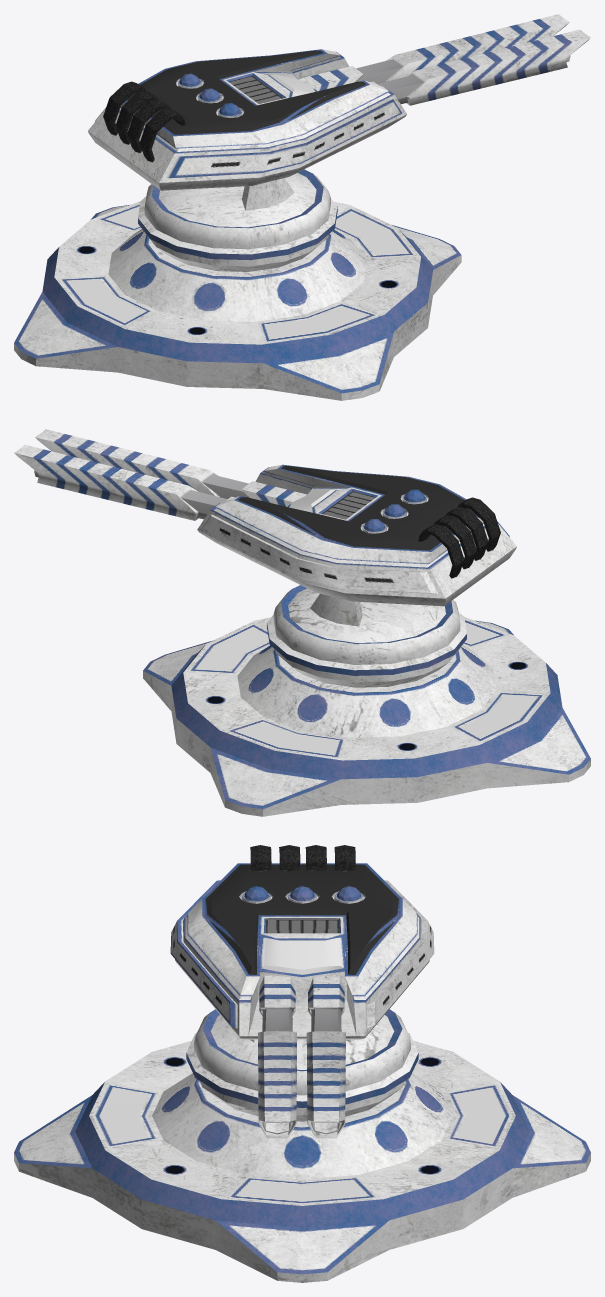
Rendered from GunTower_3.fbx.
The picture shows the model from 3 angles, top to bottom: view 1: azimuth 30°, elevation 25°; view 2: azimuth 150°, elevation 25°; view 3: azimuth 270°, elevation 25°; orthographic projection. The views are drawn at different scales.
Parts seen in each view (by area): view 1: Platform_lp, Turret_lp, Axses_lp, GunP_lp, GunL_lp; view 2: Platform_lp, Turret_lp, Axses_lp, GunL_lp, GunP_lp; view 3: Platform_lp, Turret_lp, Axses_lp, GunL_lp, GunP_lp.
Boxes of the visible parts, box(x1,y1,x2,y2) form: Platform_lp: box(14, 201, 461, 400); Turret_lp: box(88, 49, 406, 190); Axses_lp: box(138, 169, 337, 271); GunP_lp: box(377, 29, 590, 105); GunL_lp: box(356, 14, 569, 83); Platform_lp: box(143, 617, 590, 816); Turret_lp: box(197, 464, 516, 606); Axses_lp: box(267, 585, 466, 687); GunL_lp: box(14, 445, 227, 520); GunP_lp: box(35, 429, 249, 498); Platform_lp: box(14, 1040, 590, 1282); Turret_lp: box(170, 845, 434, 1039); Axses_lp: box(186, 1009, 418, 1121); GunL_lp: box(306, 1009, 345, 1138); GunP_lp: box(258, 1009, 296, 1138).
Size of the model in its own units: 251 by 127 by 320.
1 material, 1 textured.
